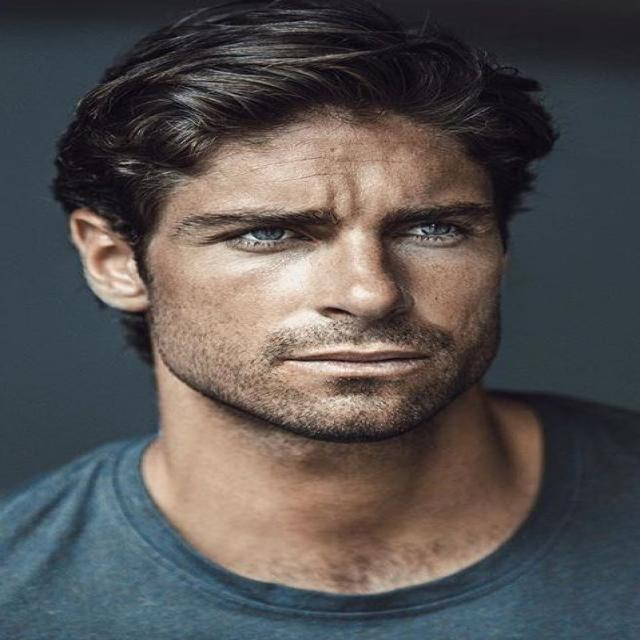front: (171, 167, 537, 414)
